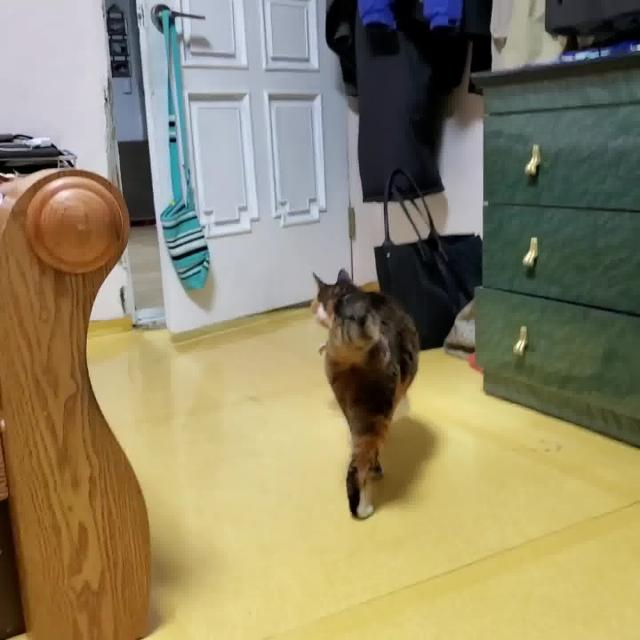cat: (303, 266, 432, 525)
